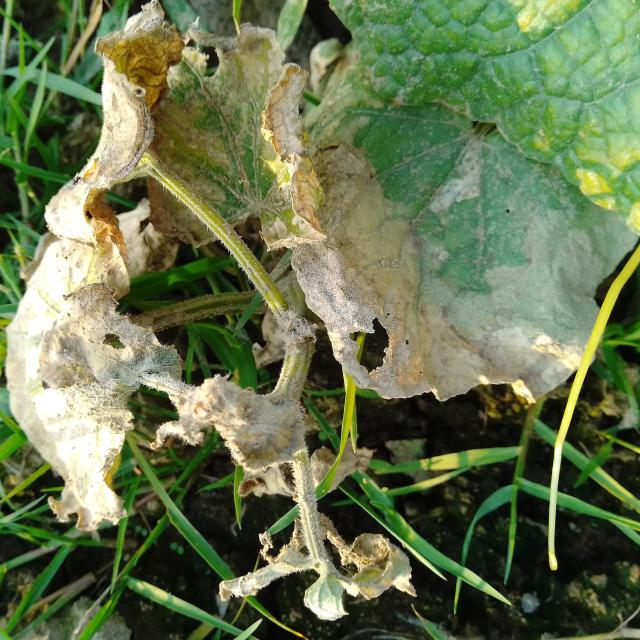cucumber_bacterial: (295, 0, 638, 406), (0, 232, 219, 555), (117, 22, 332, 230), (180, 330, 334, 546), (57, 0, 166, 252)
